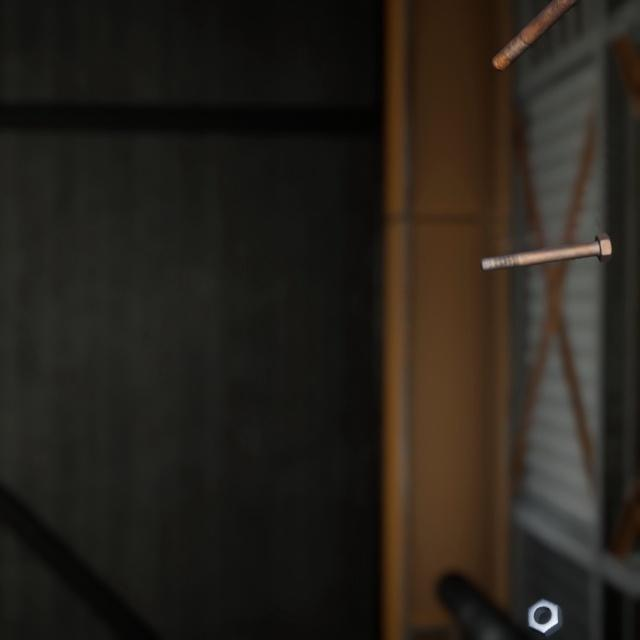bolt: (475, 212, 616, 260), (487, 0, 576, 67)
nut: (523, 570, 566, 617)
